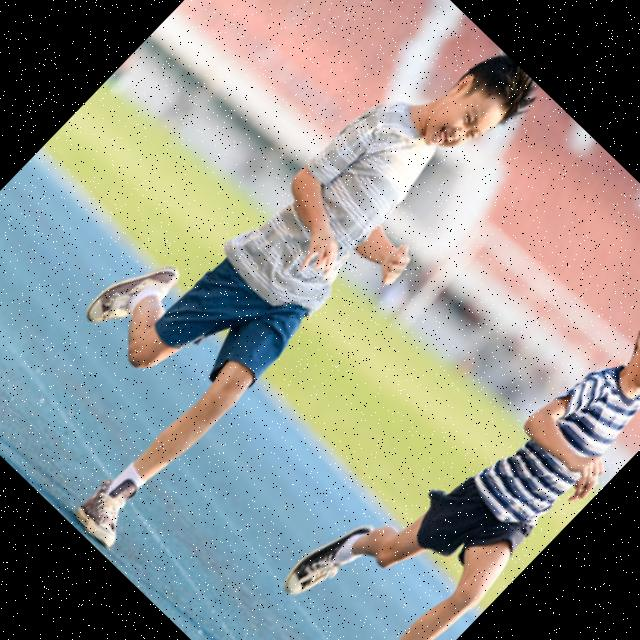Person: (0, 0, 562, 568), (253, 216, 640, 640)
